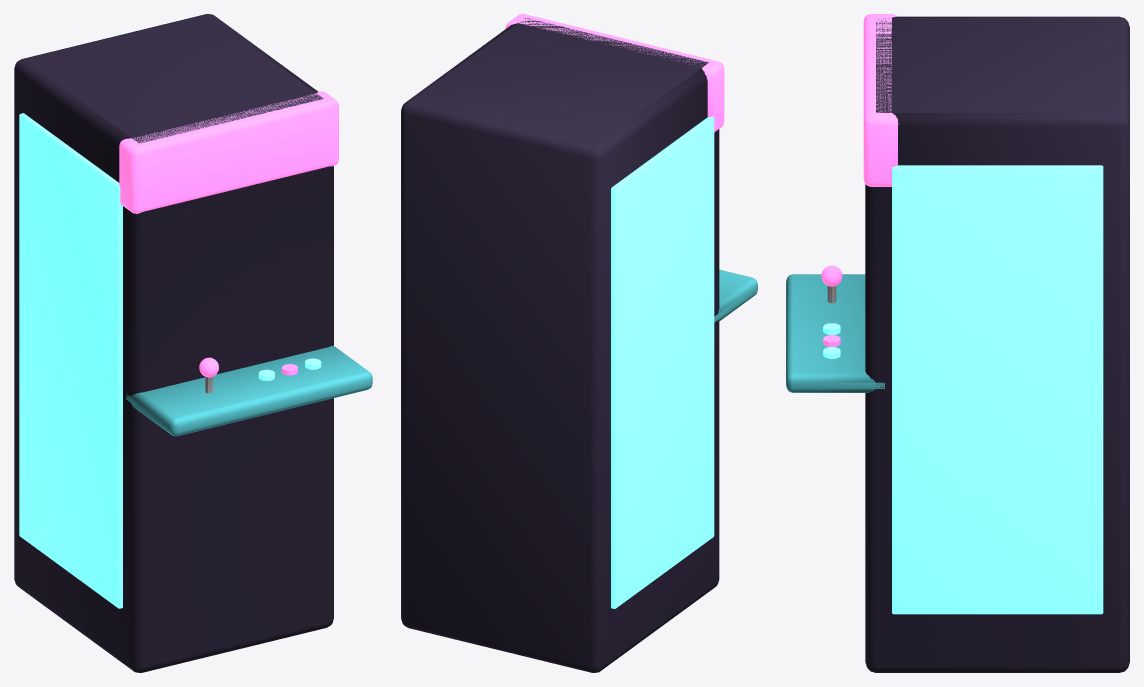
File: gift-dev.glb
3 renders of one model, left to right at view 1: azimuth 30°, elevation 25°; view 2: azimuth 150°, elevation 25°; view 3: azimuth 270°, elevation 25°, orthographic. The views are drawn at different scales.
Parts seen in each view (by area): view 1: gift-dev; view 2: gift-dev; view 3: gift-dev.
Boxes of the visible parts, bbox=[...] form: gift-dev: bbox=[14, 14, 372, 672]; gift-dev: bbox=[401, 14, 757, 672]; gift-dev: bbox=[786, 14, 1129, 672].
Bounding box in the file's own units: 0.73 × 1.75 × 0.975.
